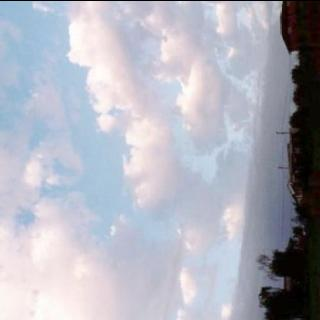Stratocumulus: (1, 0, 284, 320)
